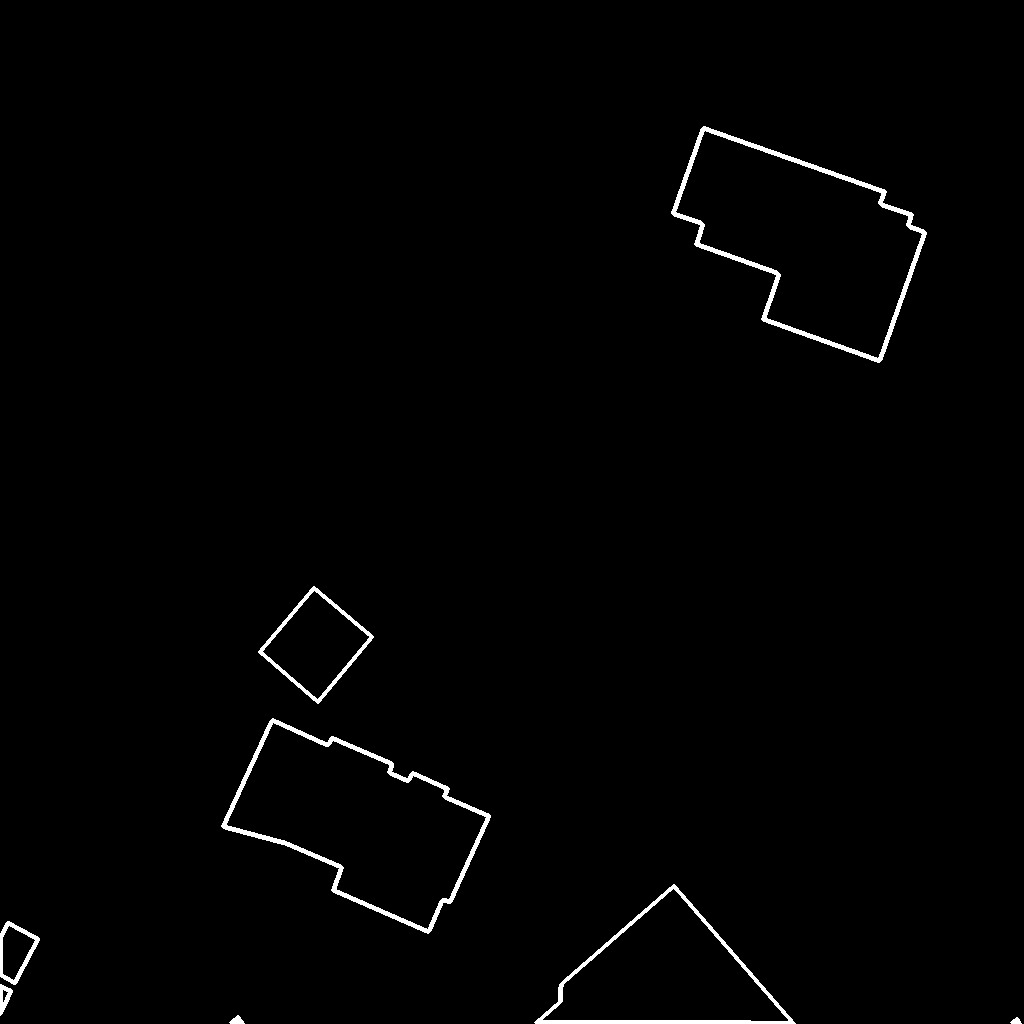building: (673, 128, 926, 362), (223, 720, 490, 933), (536, 886, 795, 1024), (260, 588, 373, 703), (0, 923, 39, 984), (0, 986, 12, 1016), (231, 1017, 244, 1024), (1012, 1019, 1021, 1024)
